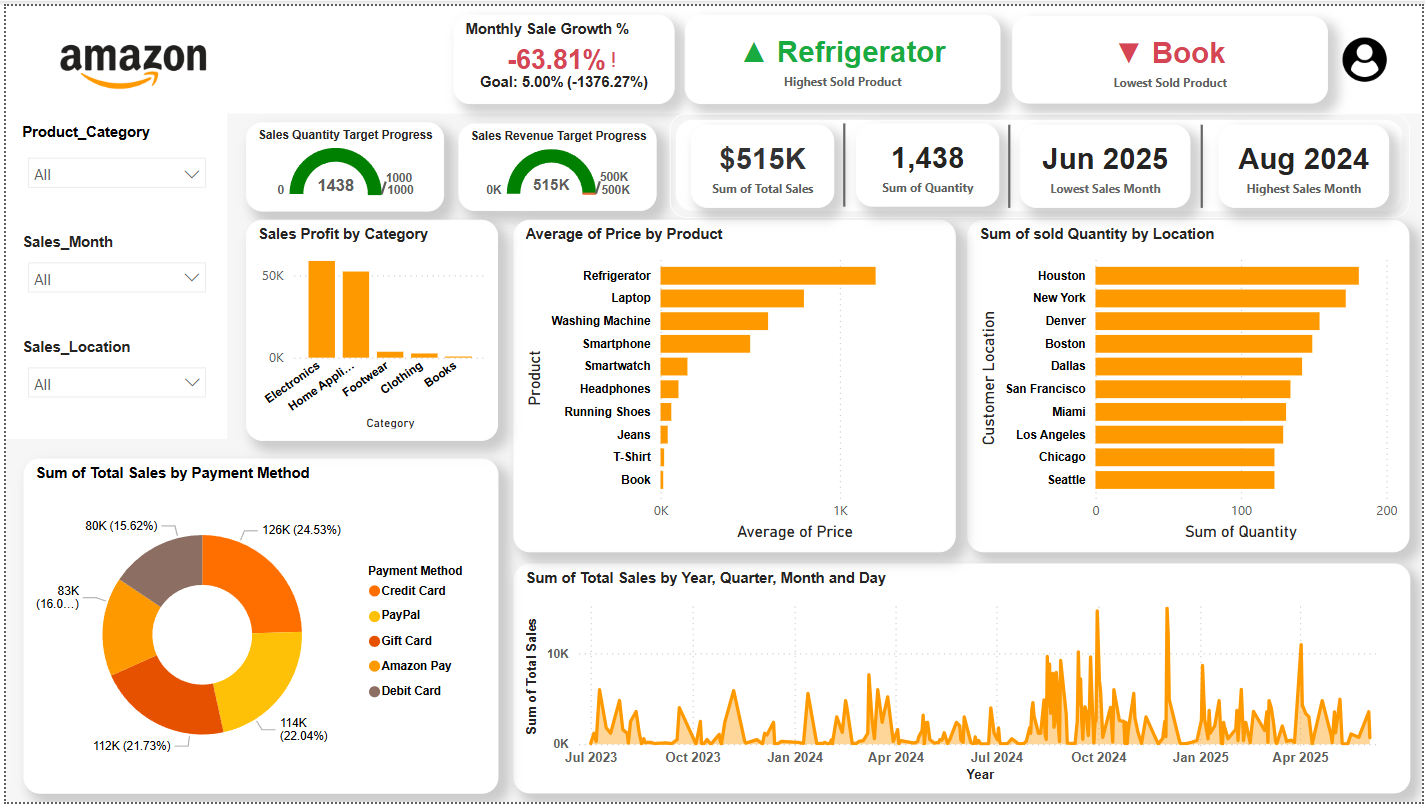

What the dashboard file says about the page in this screenshot:
{"tool":"powerbi","page":{"name":"Page 1","canvas":[1280,720],"ordinal":0},"visuals":[{"type":"shape","box":[0,97.1,1280,622.9],"z":0},{"type":"shape","box":[0,0,1280,97.1],"z":1000},{"type":"shape","box":[600,97.7,669.2,94.6],"z":1000,"group":"g1"},{"type":"slicer","title":"Product_Category","fields":{"Values":["amazon_sales_data 2025.Category"]},"box":[0,97.1,200,100],"z":2000},{"type":"card","fields":{"Values":["Sum(amazon_sales_data 2025.Total Sales)"]},"box":[618.8,108.1,129.4,75.1],"z":2000,"group":"g2"},{"type":"image","box":[0,0.1,230.9,97.1],"z":3000},{"type":"card","fields":{"Values":["Sum(amazon_sales_data 2025.Quantity)"]},"box":[767.7,106.7,129.4,75.1],"z":4000,"group":"g2"},{"type":"slicer","title":"Sales_Month","fields":{"Values":["amazon_sales_data.Date.Variation.Date Hierarchy.Year1","amazon_sales_data.Date.Variation.Date Hierarchy.Quarter","amazon_sales_data.Date.Variation.Date Hierarchy.Month","amazon_sales_data.Date.Variation.Date Hierarchy.Day"]},"box":[0,197.1,200,100],"z":4000},{"type":"barChart","title":"Sum of sold Quantity by Location","fields":{"Category":["amazon_sales_data 2025.Customer Location"],"Y":["Sum(amazon_sales_data 2025.Quantity)"]},"box":[869.7,193.1,400,300.6],"z":5000},{"type":"shape","box":[748.2,106.7,19.5,75.1],"z":6000,"group":"g2"},{"type":"areaChart","fields":{"Y":["Sum(amazon_sales_data.Total Sales)"],"Category":["amazon_sales_data.Date.Variation.Date Hierarchy.Year","amazon_sales_data.Date.Variation.Date Hierarchy.Quarter","amazon_sales_data.Date.Variation.Date Hierarchy.Month","amazon_sales_data.Date.Variation.Date Hierarchy.Day"]},"box":[459.4,504,811.4,208],"z":6000},{"type":"kpi","title":"Monthly Sale Growth %","fields":{"Goal":["DateTable.Target MoM Growth %"],"TrendLine":["Date_Table_KPI.Date"],"Indicator":["amazon_sales_data.MoM_Sales_Growth_KPI %"]},"box":[405,8.3,200.3,80.7],"z":7000},{"type":"card","fields":{"Values":["DateTable.Top Sold Product"]},"box":[614,8.3,285.2,80.7],"z":8000},{"type":"shape","box":[897.1,108.1,19.5,75.1],"z":8000,"group":"g2"},{"type":"card","fields":{"Values":["DateTable.Lowest Sold Product"]},"box":[910,8.6,285.2,79.3],"z":9000},{"type":"image","box":[1204.3,23.6,50,50],"z":10000},{"type":"card","fields":{"Values":["amazon_sales_data 2025.LowestSalesMonth"]},"box":[916.5,108.1,154.4,75.1],"z":10000,"group":"g2"},{"type":"gauge","title":"Sales Quantity Target Progress","fields":{"TargetValue":["amazon_sales_data.Sales Target"],"MaxValue":["amazon_sales_data.Sales Target"],"Y":["Sum(amazon_sales_data.Quantity)"]},"box":[217,105.1,179.5,80.7],"z":11000},{"type":"shape","box":[1071,108.1,19.5,75.1],"z":12000,"group":"g2"},{"type":"donutChart","fields":{"Category":["amazon_sales_data.Payment Method"],"Y":["Sum(amazon_sales_data.Total Sales)"]},"box":[15.3,409,429.9,303.3],"z":12000},{"type":"gauge","title":"Sales Revenue Target Progress","fields":{"Y":["Sum(amazon_sales_data.Total Sales)"],"TargetValue":["amazon_sales_data.Sales Revenue Target"],"MaxValue":["amazon_sales_data.Sales Revenue Target"]},"box":[409.3,105.8,179.5,79.3],"z":13000},{"type":"card","fields":{"Values":["amazon_sales_data.Highest Sales Month"]},"box":[1096,108.1,154,75],"z":13000,"group":"g2"},{"type":"slicer","title":"Sales_Location","fields":{"Values":["amazon_sales_data.Customer Location"]},"box":[0,292.2,200.3,100.2],"z":14000},{"type":"barChart","title":"Average of Price by Product","fields":{"Category":["amazon_sales_data.Product"],"Y":["Avg(amazon_sales_data.Price)"]},"box":[459.4,193.1,400,300.6],"z":15000},{"type":"columnChart","title":"Sales Profit by Category","fields":{"Category":["amazon_sales_data.Category"],"Y":["Sum(amazon_sales_data.Profit)"]},"box":[217,193.4,228.2,200.3],"z":16000},{"type":"group","id":"g1","title":"Group 2","box":[600,97.7,669.2,94.6],"z":17000},{"type":"group","id":"g2","title":"Group 1","box":[618.8,106.7,631.2,76.5],"z":24001,"group":"g1"}]}

Visuals, with their boxes in screenshot pixels (x1, y1, x2, y2), scaled from the page's 1280x720 canvas onto the 1425x806 screenshot:
shape: pyautogui.locateOnScreen(0, 109, 1424, 805)
shape: pyautogui.locateOnScreen(0, 0, 1424, 109)
shape: pyautogui.locateOnScreen(668, 109, 1413, 215)
"Product_Category" slicer: pyautogui.locateOnScreen(0, 109, 223, 221)
card - Sum(amazon_sales_data 2025.Total Sales): pyautogui.locateOnScreen(689, 121, 833, 205)
image: pyautogui.locateOnScreen(0, 0, 257, 109)
card - Sum(amazon_sales_data 2025.Quantity): pyautogui.locateOnScreen(855, 119, 999, 204)
"Sales_Month" slicer: pyautogui.locateOnScreen(0, 221, 223, 333)
"Sum of sold Quantity by Location" barChart: pyautogui.locateOnScreen(968, 216, 1414, 553)
shape: pyautogui.locateOnScreen(833, 119, 855, 204)
areaChart - Sum(amazon_sales_data.Total Sales) x amazon_sales_data.Date.Variation.Date Hierarchy.Year: pyautogui.locateOnScreen(511, 564, 1415, 797)
"Monthly Sale Growth %" kpi: pyautogui.locateOnScreen(451, 9, 674, 100)
card - DateTable.Top Sold Product: pyautogui.locateOnScreen(684, 9, 1001, 100)
shape: pyautogui.locateOnScreen(999, 121, 1020, 205)
card - DateTable.Lowest Sold Product: pyautogui.locateOnScreen(1013, 10, 1331, 98)
image: pyautogui.locateOnScreen(1341, 26, 1396, 82)
card - amazon_sales_data 2025.LowestSalesMonth: pyautogui.locateOnScreen(1020, 121, 1192, 205)
"Sales Quantity Target Progress" gauge: pyautogui.locateOnScreen(242, 118, 441, 208)
shape: pyautogui.locateOnScreen(1192, 121, 1214, 205)
donutChart - amazon_sales_data.Payment Method x Sum(amazon_sales_data.Total Sales): pyautogui.locateOnScreen(17, 458, 496, 797)
"Sales Revenue Target Progress" gauge: pyautogui.locateOnScreen(456, 118, 656, 207)
card - amazon_sales_data.Highest Sales Month: pyautogui.locateOnScreen(1220, 121, 1392, 205)
"Sales_Location" slicer: pyautogui.locateOnScreen(0, 327, 223, 439)
"Average of Price by Product" barChart: pyautogui.locateOnScreen(511, 216, 957, 553)
"Sales Profit by Category" columnChart: pyautogui.locateOnScreen(242, 217, 496, 441)
"Group 2" group: pyautogui.locateOnScreen(668, 109, 1413, 215)
"Group 1" group: pyautogui.locateOnScreen(689, 119, 1392, 205)
